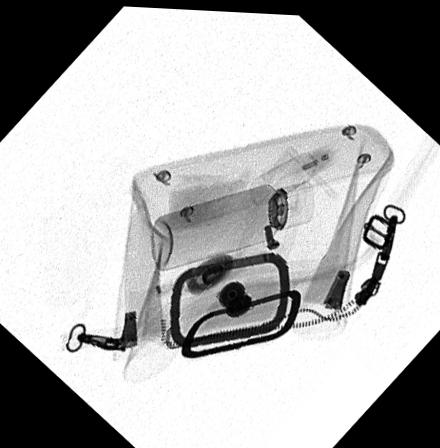Sprayer: (150, 177, 314, 269)
